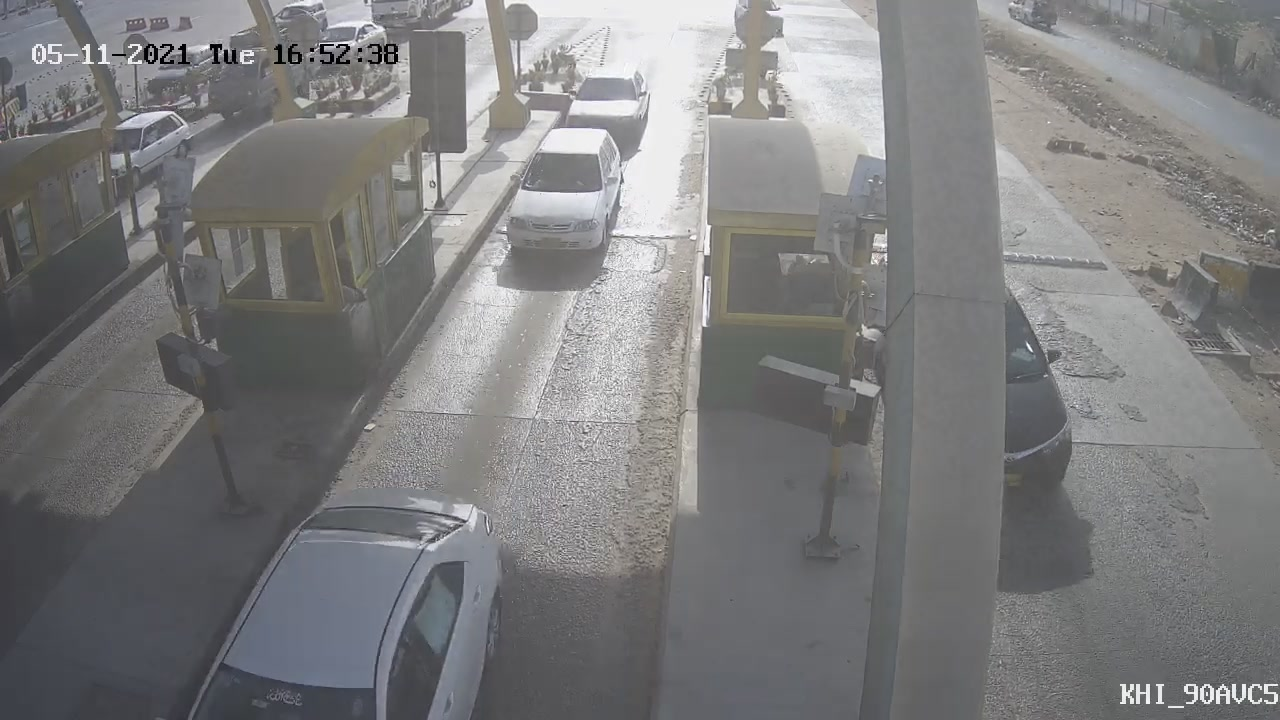F1: (491, 113, 635, 273), (555, 47, 663, 157)
